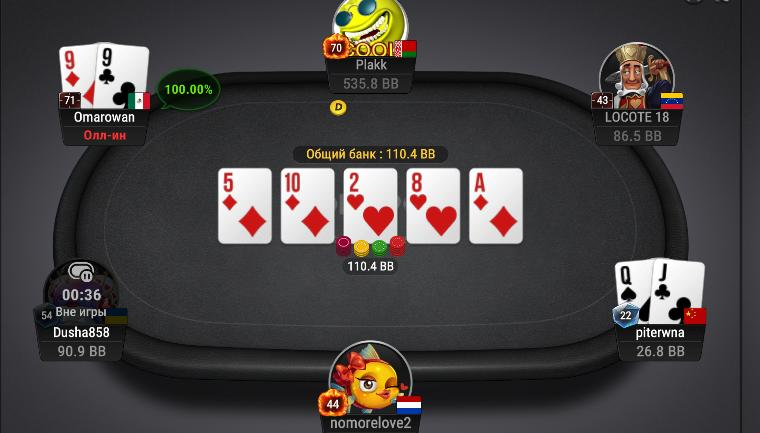10d: (281, 170, 335, 241)
2h: (345, 169, 397, 242)
5d: (219, 168, 272, 243)
8h: (407, 168, 461, 243)
9c: (96, 43, 147, 106)
9d: (58, 45, 96, 107)
Ad: (471, 168, 523, 242)
Jc: (652, 259, 704, 325)
Qs: (615, 259, 652, 324)
